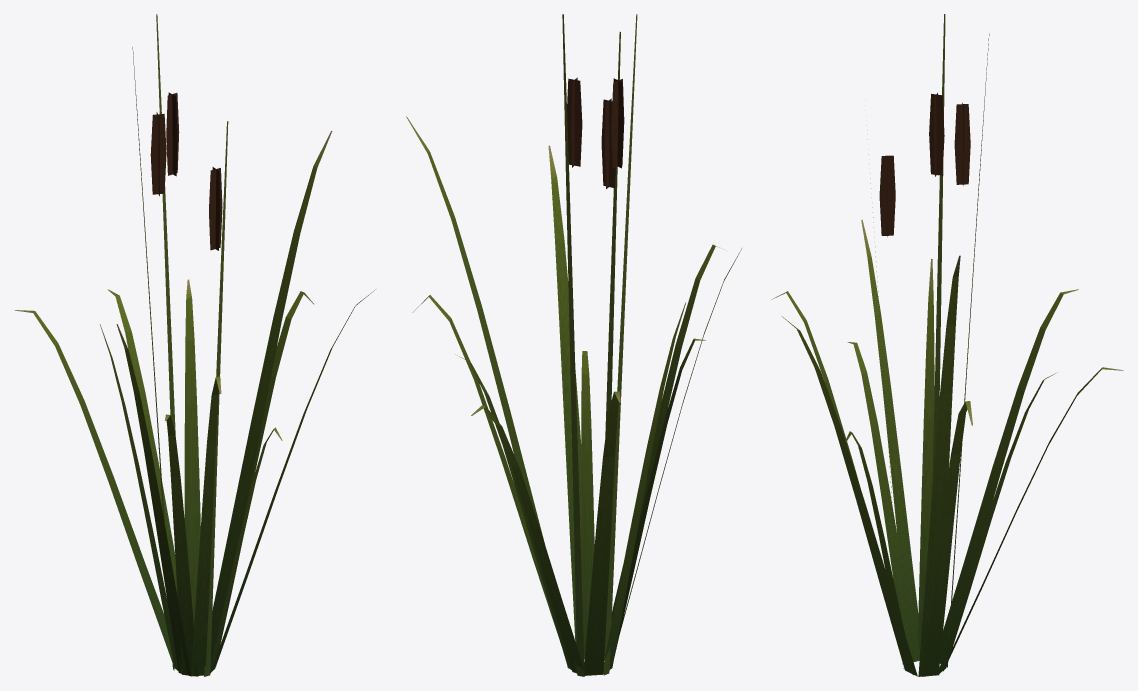
The model's file is reed.glb.
The picture shows the model from 3 angles, left to right: view 1: azimuth 30°, elevation 25°; view 2: azimuth 150°, elevation 25°; view 3: azimuth 270°, elevation 25°; orthographic projection. The views are drawn at different scales.
Parts seen in each view (by area): view 1: reed; view 2: reed; view 3: reed.
Part boxes in pixels (left/top/right/bottom): reed: left=14, top=14, right=375, bottom=676; reed: left=406, top=14, right=741, bottom=676; reed: left=771, top=14, right=1123, bottom=676.
Bounding box in the file's own units: 0.8278 × 1.89 × 0.9546.
Materials: 1 (1 with a texture image).
